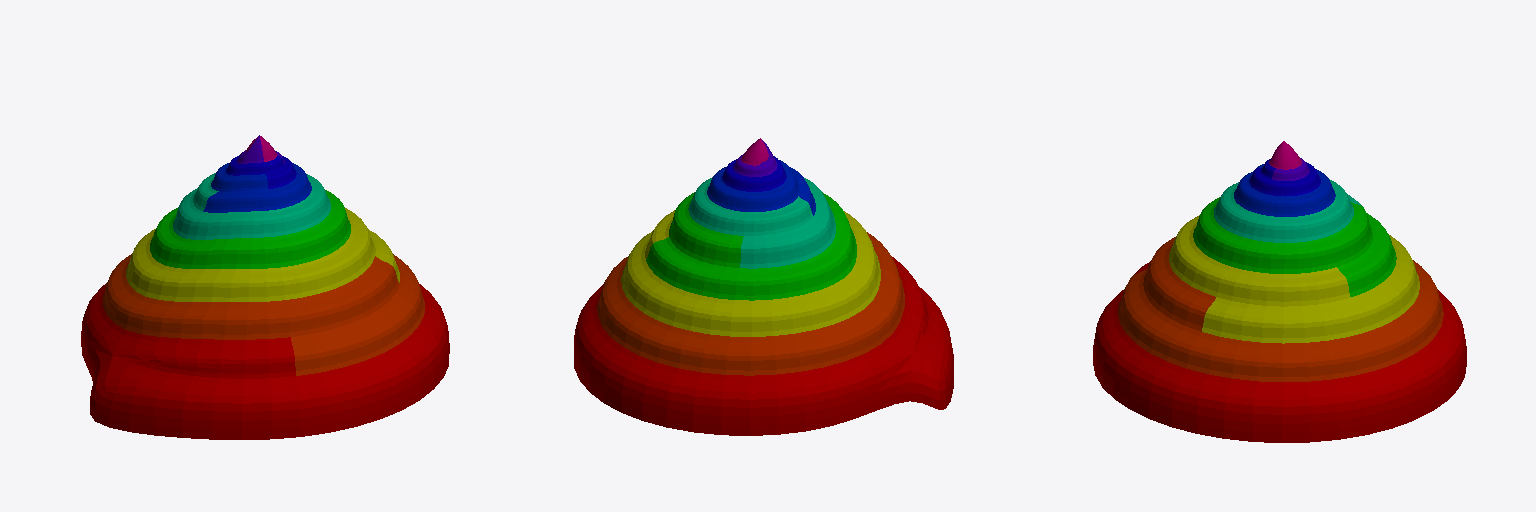
The model's file is poop.obj.
3 renders of one model, left to right at view 1: azimuth 30°, elevation 25°; view 2: azimuth 150°, elevation 25°; view 3: azimuth 270°, elevation 25°, orthographic.
Visible parts, largest first — view 1: Poop_Plane.001; view 2: Poop_Plane.001; view 3: Poop_Plane.001.
Part boxes in pixels (x1,y1,x2,y2): Poop_Plane.001: (81, 135, 449, 439); Poop_Plane.001: (574, 138, 953, 435); Poop_Plane.001: (1093, 141, 1466, 442).
Bounding box in the file's own units: 2.57 × 1.72 × 2.46.